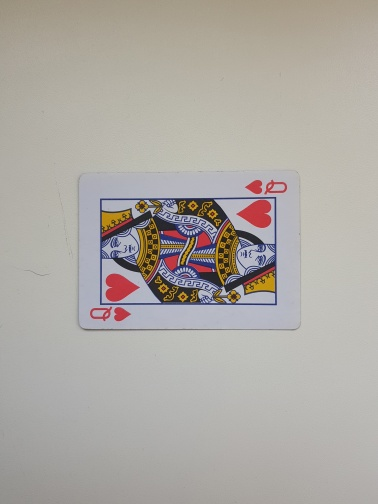queen: (75, 168, 303, 333)
